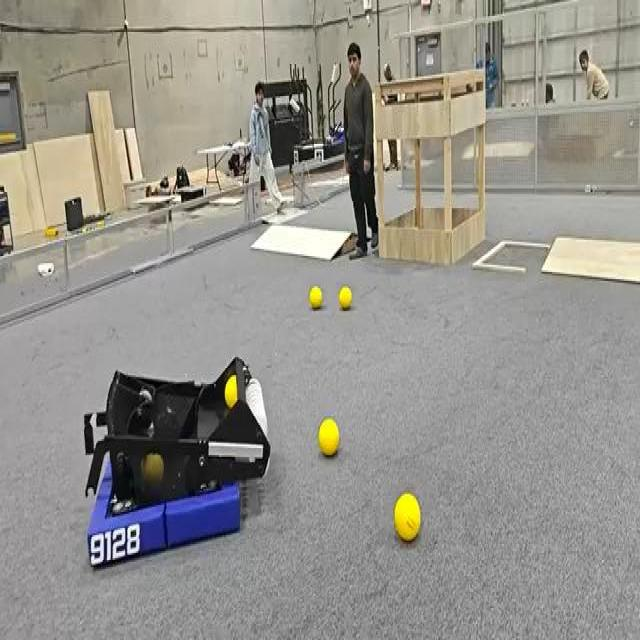Fuel: (394, 492, 420, 540), (318, 418, 339, 455), (224, 375, 238, 409), (224, 375, 237, 407), (338, 286, 351, 310), (309, 286, 322, 308)
